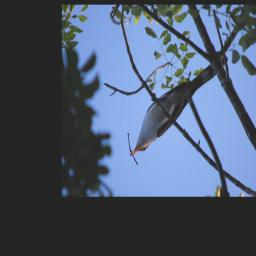Cuckoo: (128, 67, 217, 158)
